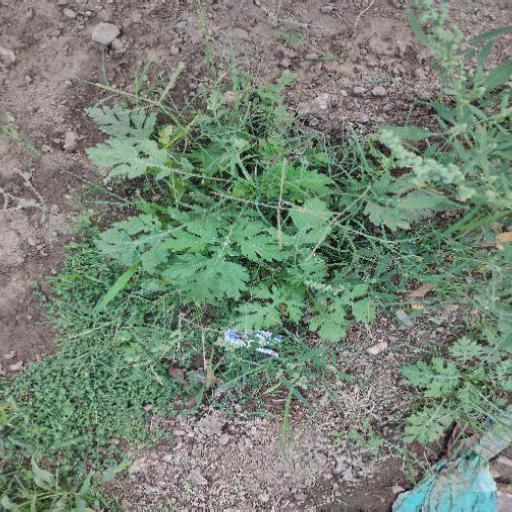weed: (89, 32, 509, 433)
